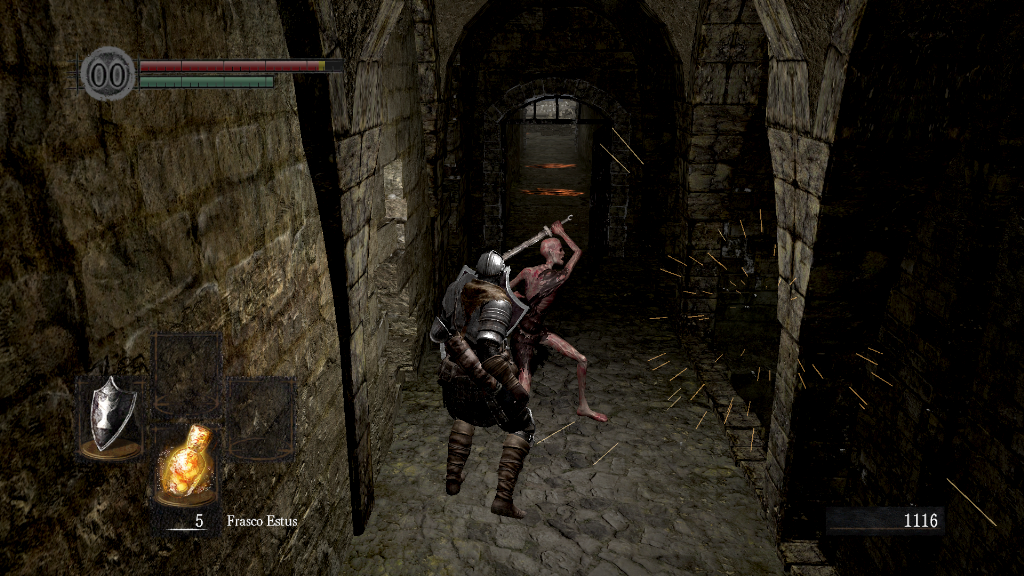health: (138, 58, 343, 71)
hollow: (498, 215, 612, 428)
humanity: (80, 45, 136, 102)
player: (429, 250, 537, 522)
souls: (825, 506, 945, 536)
stamina: (138, 74, 274, 88)
